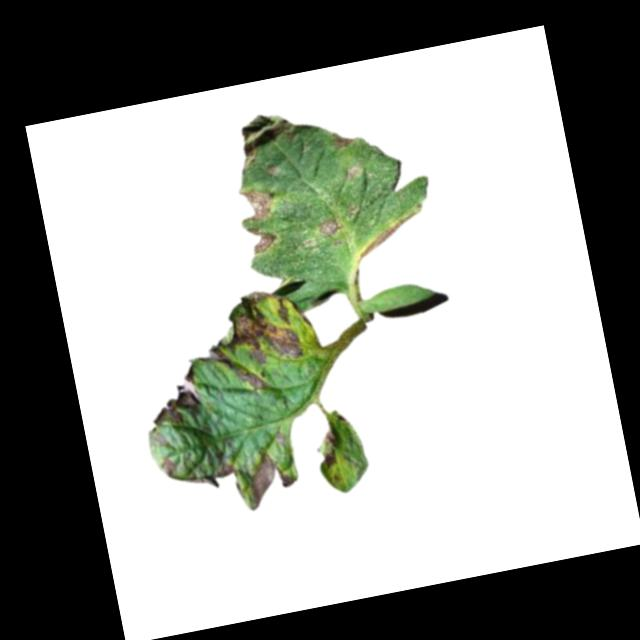Early_blight: (186, 283, 312, 399), (143, 371, 205, 431), (245, 445, 302, 506), (237, 107, 294, 155), (354, 215, 413, 259), (187, 457, 239, 493), (238, 181, 277, 224), (317, 424, 345, 467), (246, 222, 276, 255), (158, 451, 180, 478), (332, 127, 357, 149), (320, 216, 341, 239)
